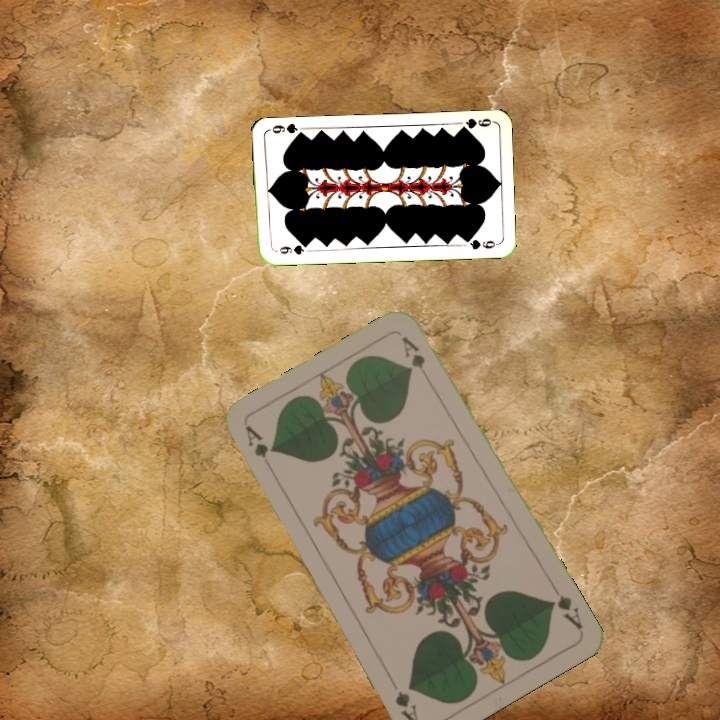G9: (455, 114, 495, 134), (275, 240, 311, 257)
GA: (241, 422, 277, 476), (545, 590, 585, 632)
